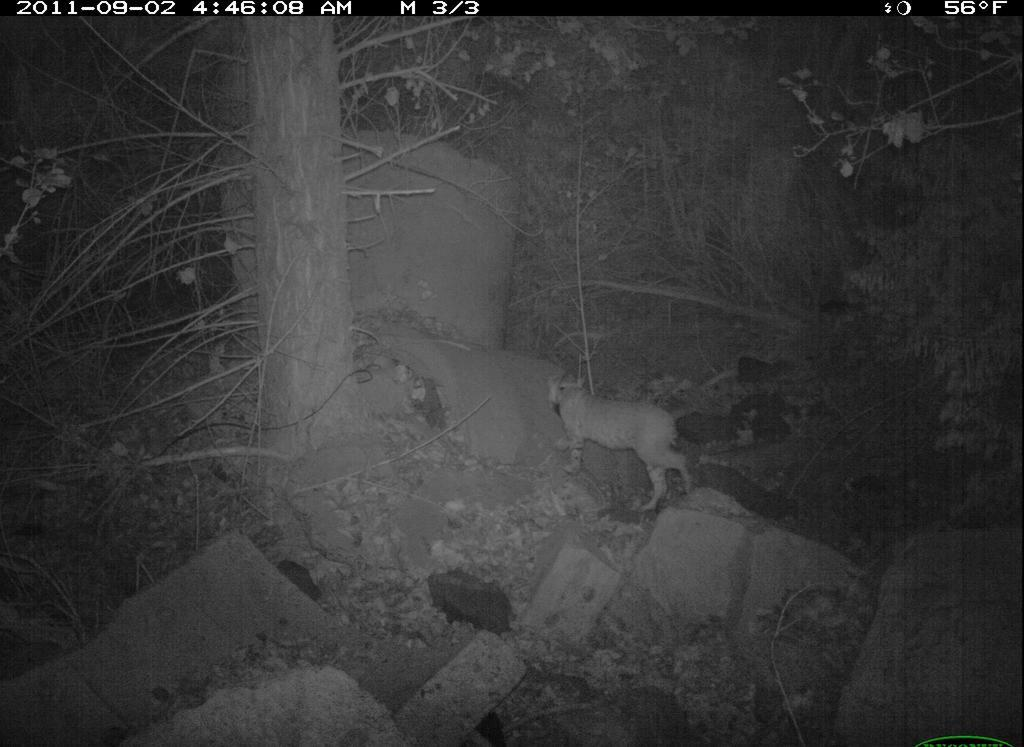bobcat: (543, 364, 696, 510)
